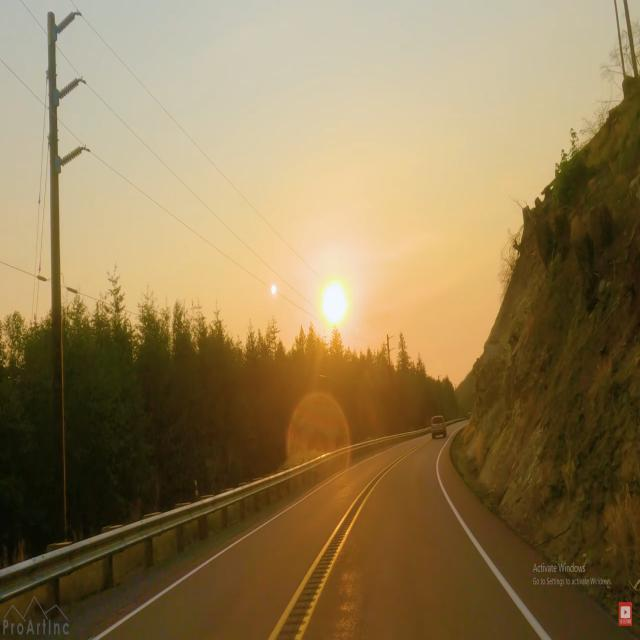sun: (307, 260, 361, 340)
